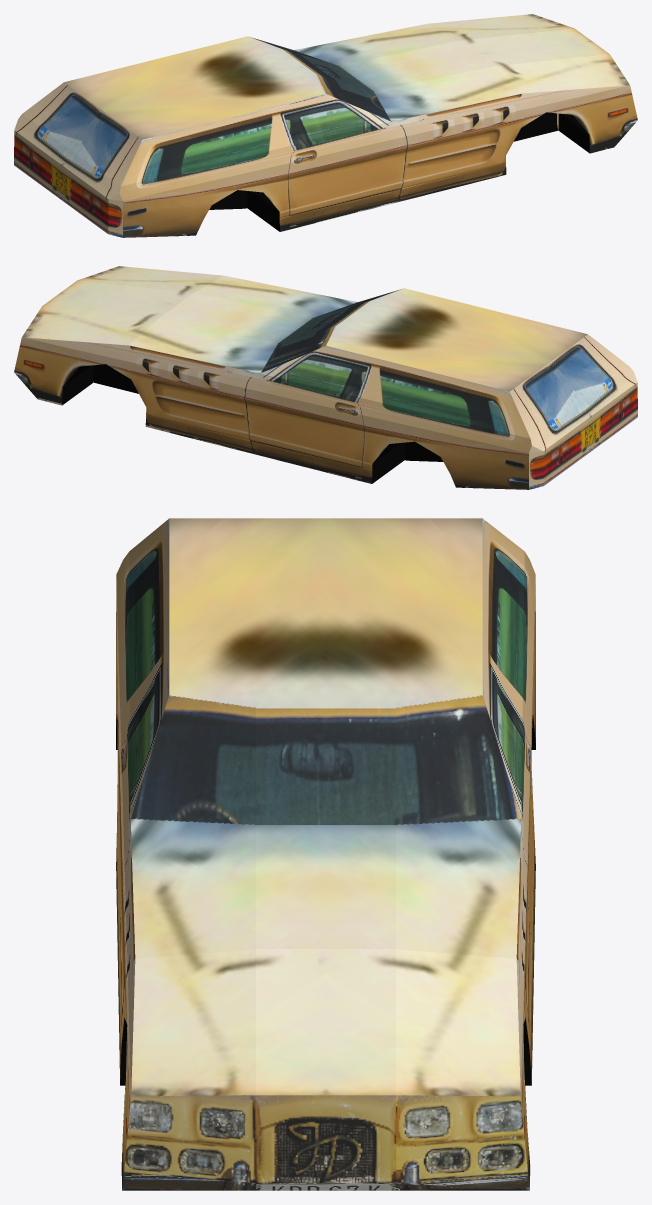
The model's file is mrbeast.glb.
3 views of the same model, one above another, from view 1: azimuth 30°, elevation 25°; view 2: azimuth 150°, elevation 25°; view 3: azimuth 270°, elevation 25° (orthographic). The views are drawn at different scales.
Parts seen in each view (by area): view 1: Cube; view 2: Cube; view 3: Cube.
Boxes of the visible parts, box(x1,y1,x2,y2) form: Cube: box(14, 14, 637, 237); Cube: box(14, 266, 637, 489); Cube: box(116, 518, 535, 1190).
Size of the model in its own units: 5.91 by 1.2 by 2.
1 material, 1 textured.
